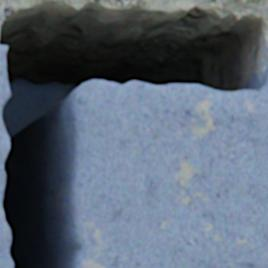broken_brick: (69, 65, 267, 267), (0, 46, 13, 267)
crack: (0, 0, 267, 267)
